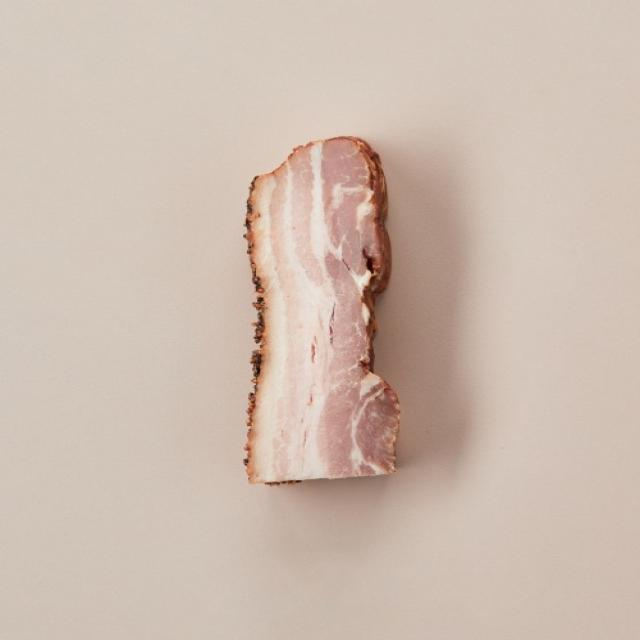bacon: (227, 133, 420, 484)
